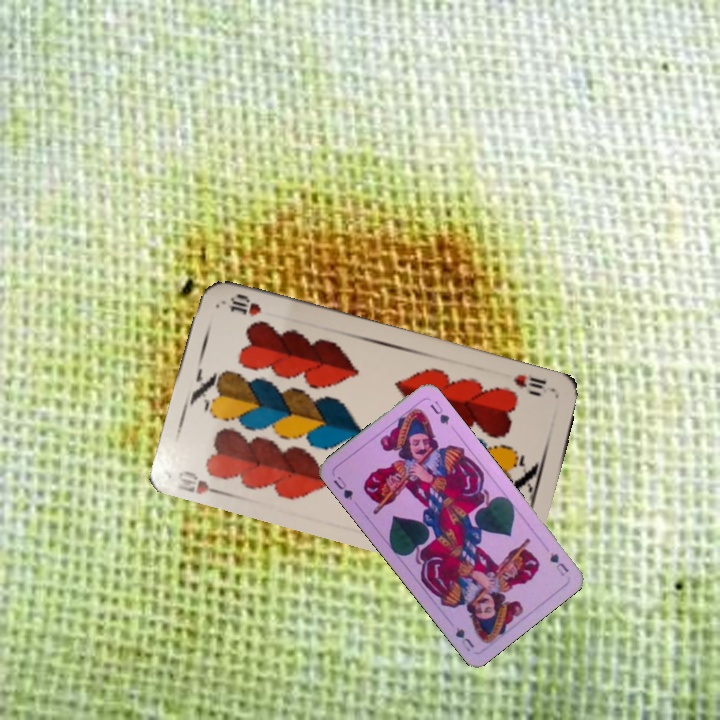GU: (329, 472, 356, 502), (545, 549, 571, 579)
H10: (174, 466, 229, 498), (509, 370, 559, 395)
